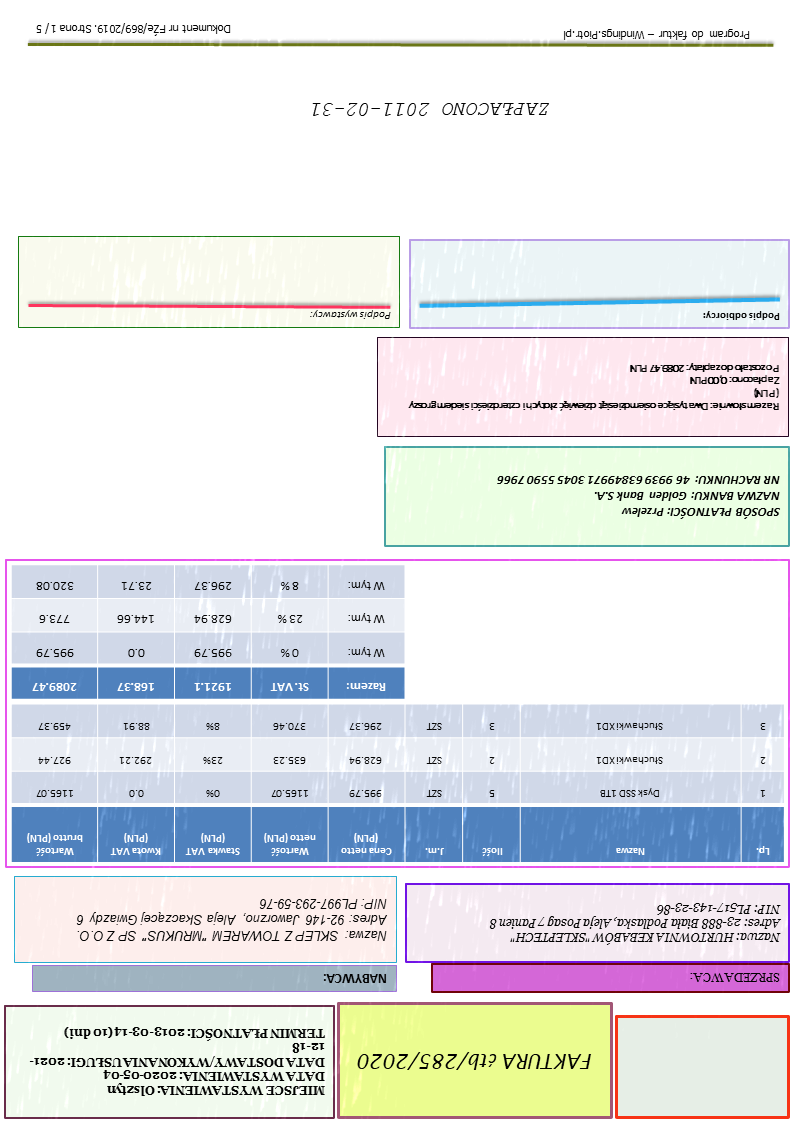Table: (12, 703, 786, 863), (10, 564, 407, 701)
TextBox: (28, 1025, 327, 1098), (406, 362, 783, 414), (74, 895, 389, 945), (495, 472, 782, 521), (490, 901, 783, 946), (356, 1048, 594, 1075), (309, 98, 551, 118), (35, 17, 234, 38), (562, 26, 753, 42), (688, 969, 783, 985), (698, 308, 784, 323), (322, 969, 389, 986), (309, 308, 393, 321)
